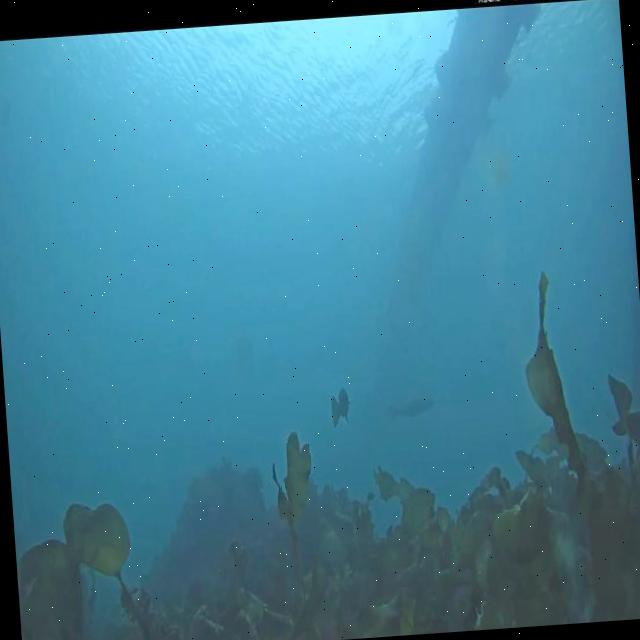fish: (393, 394, 434, 419), (328, 386, 352, 426)
